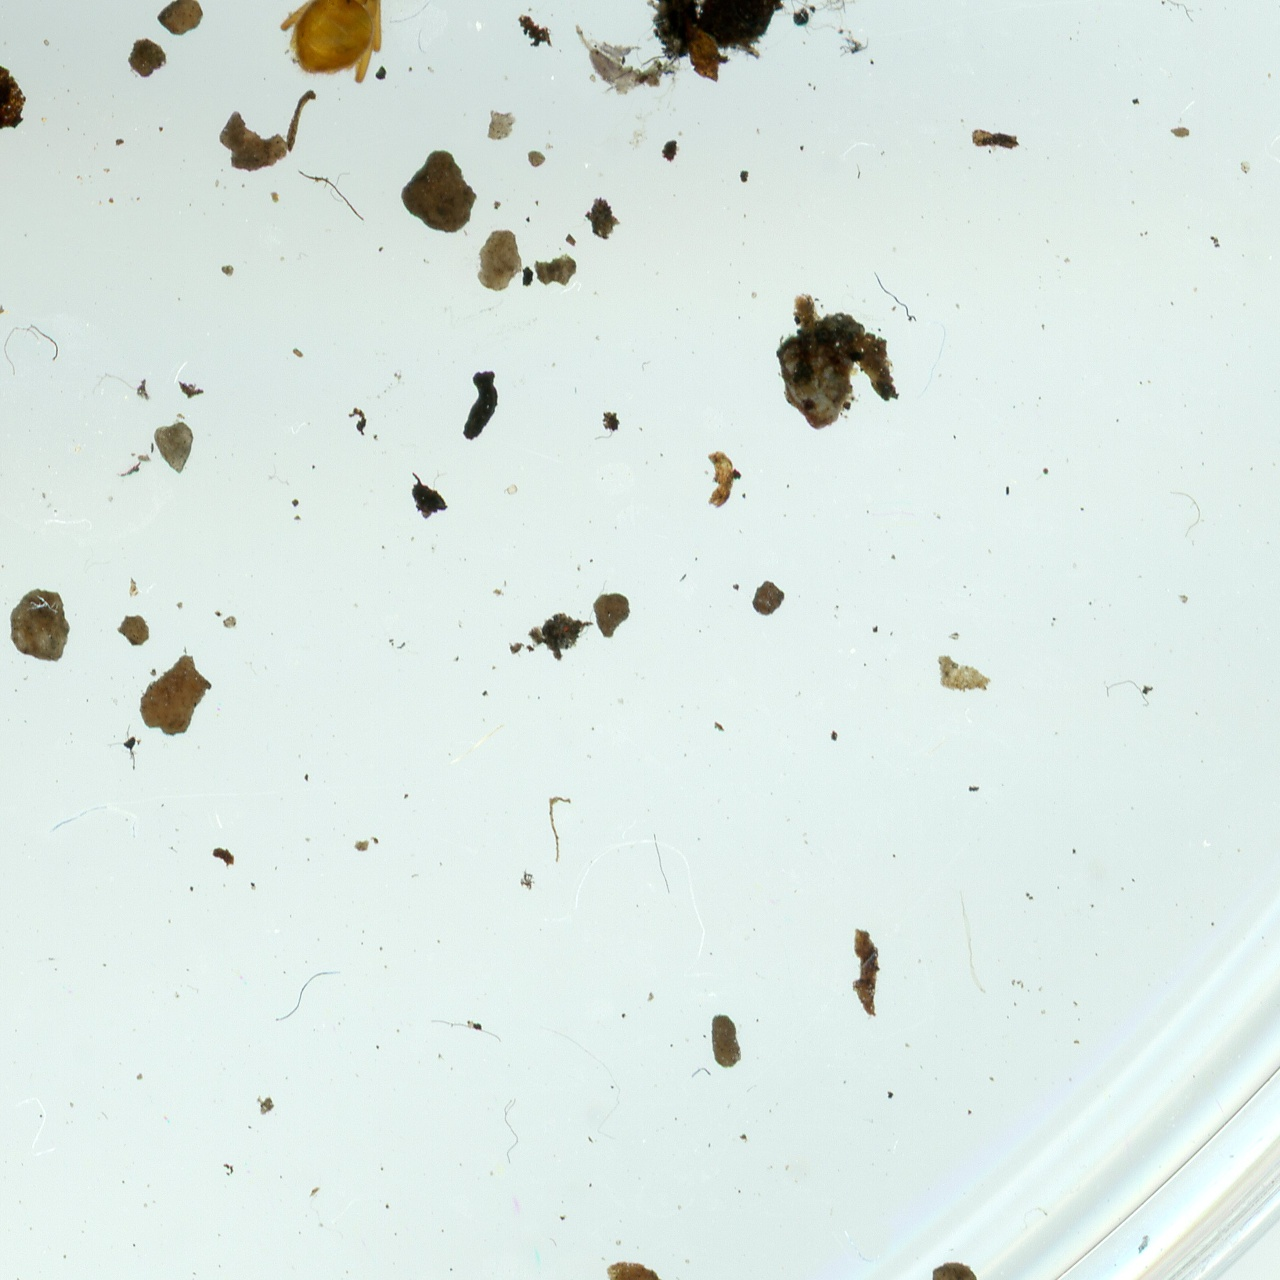arthropod: (246, 0, 543, 129), (574, 23, 681, 96), (588, 38, 644, 62)
